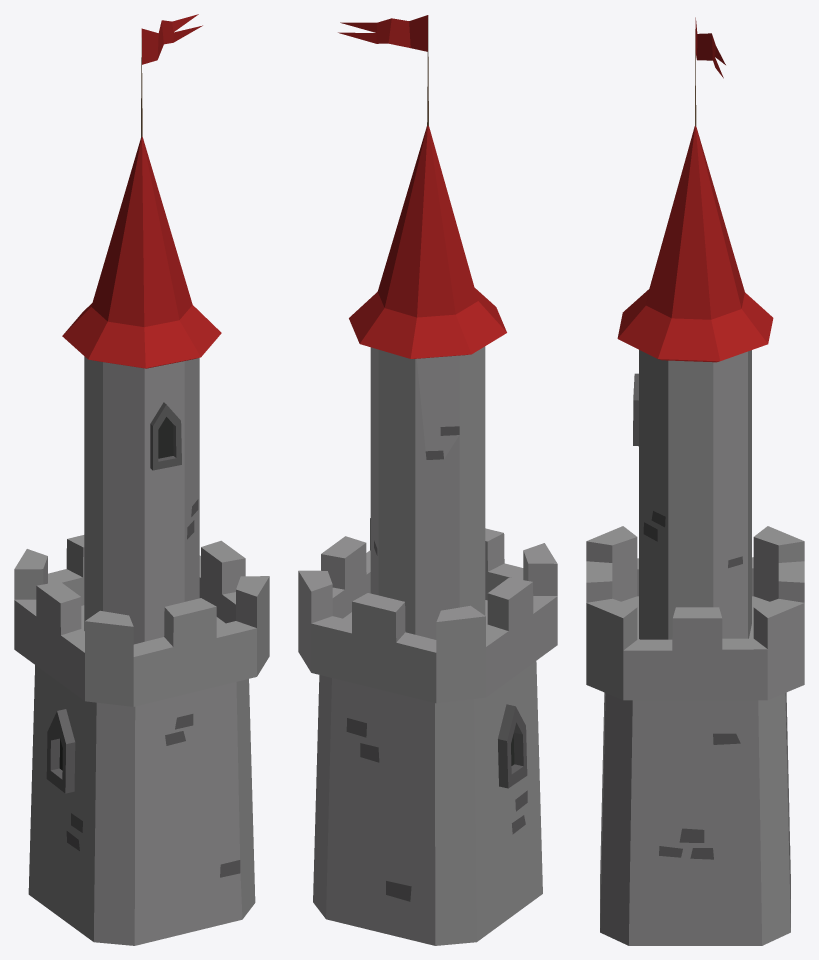
The model's file is Tall Tower.fbx.
The picture shows the model from 3 angles, left to right: view 1: azimuth 30°, elevation 25°; view 2: azimuth 150°, elevation 25°; view 3: azimuth 270°, elevation 25°; orthographic projection. The views are drawn at different scales.
Parts seen in each view (by area): view 1: Medieval Tower, Tower Spire; view 2: Medieval Tower, Tower Spire; view 3: Medieval Tower, Tower Spire.
Boxes of the visible parts, <box> form: Medieval Tower: <box>14,535,269,945</box>; Tower Spire: <box>62,14,221,644</box>; Medieval Tower: <box>298,518,557,945</box>; Tower Spire: <box>338,15,506,639</box>; Medieval Tower: <box>586,526,804,945</box>; Tower Spire: <box>617,17,773,639</box>.
Size of the model in its own units: 1.14 by 5.15 by 1.14.
